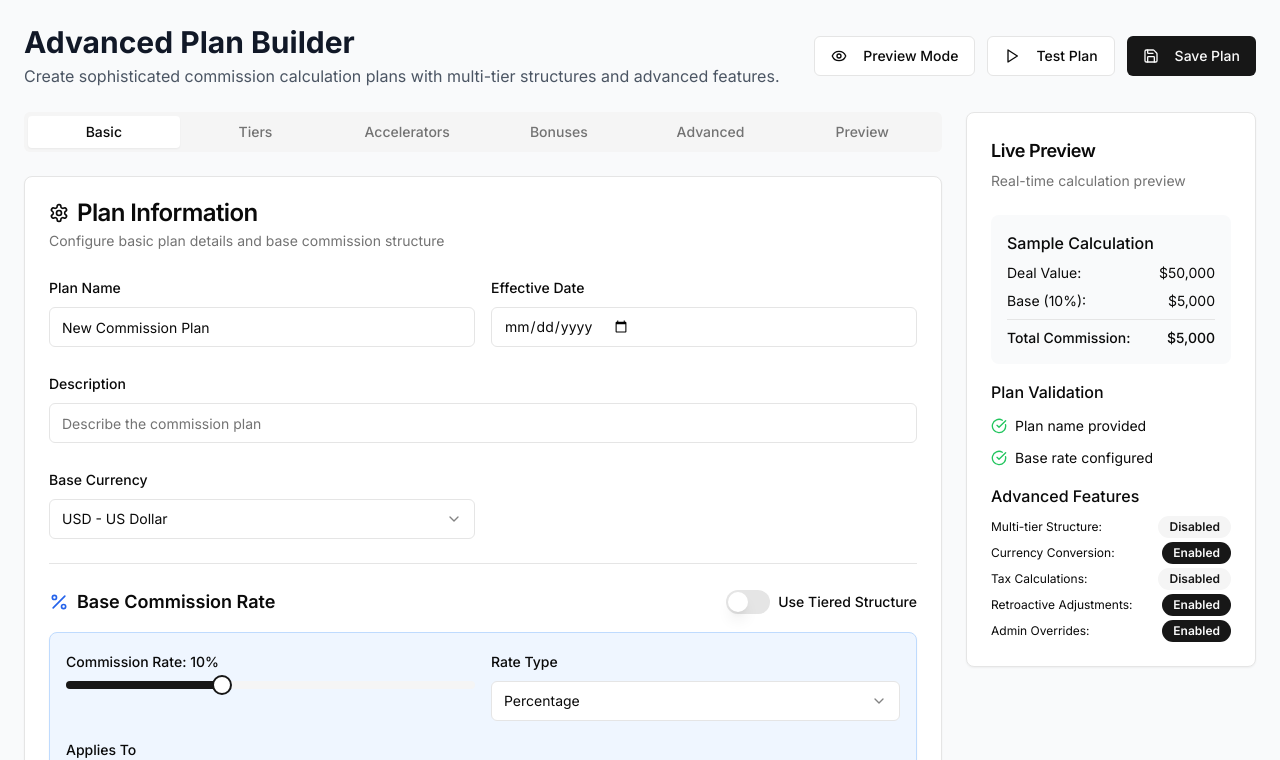
Test case: PlanBuilder › shows error message on API failure
The image size is (1280, 760).
Click the button "Save Plan": (1191, 56) [1127,36,1256,76]
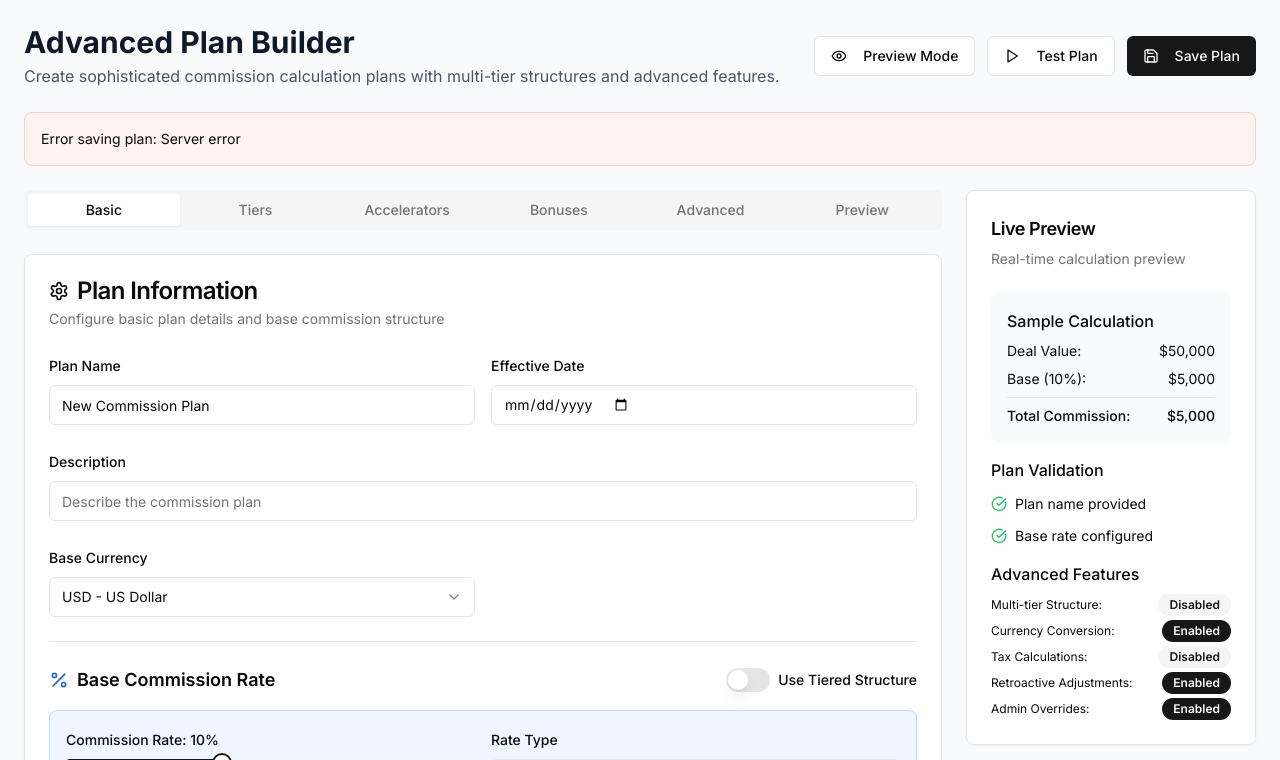
Now the text "Error saving plan: Server error" is shown, box [41,130,241,147]
